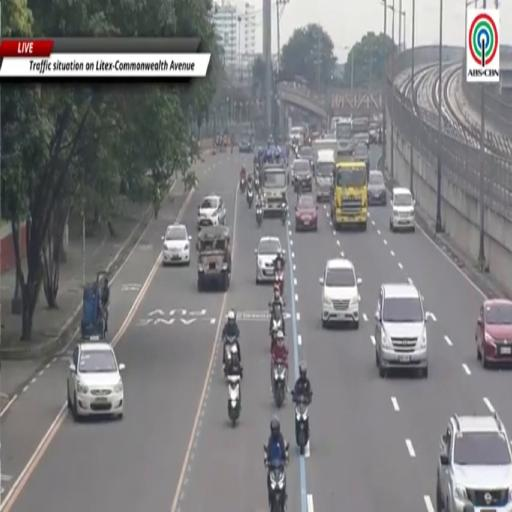car: (436, 412, 511, 511), (375, 283, 431, 377), (67, 342, 124, 420), (319, 259, 362, 328), (476, 299, 511, 367), (197, 227, 232, 292), (255, 236, 284, 283), (162, 224, 191, 265), (390, 187, 415, 231), (315, 150, 335, 201), (197, 195, 226, 230), (295, 195, 318, 232), (368, 170, 386, 205), (293, 158, 312, 191), (353, 142, 369, 172), (300, 147, 315, 170), (239, 136, 253, 153)
motorcycle: (265, 458, 287, 511), (292, 391, 309, 455), (227, 375, 241, 426), (273, 360, 287, 408), (224, 335, 239, 377), (269, 302, 285, 341), (271, 316, 284, 347), (274, 269, 284, 296), (256, 206, 263, 227), (246, 188, 253, 208), (282, 202, 287, 225), (240, 176, 246, 193), (255, 176, 260, 191)
truck: (331, 160, 368, 230), (261, 165, 287, 216), (335, 118, 353, 151)
